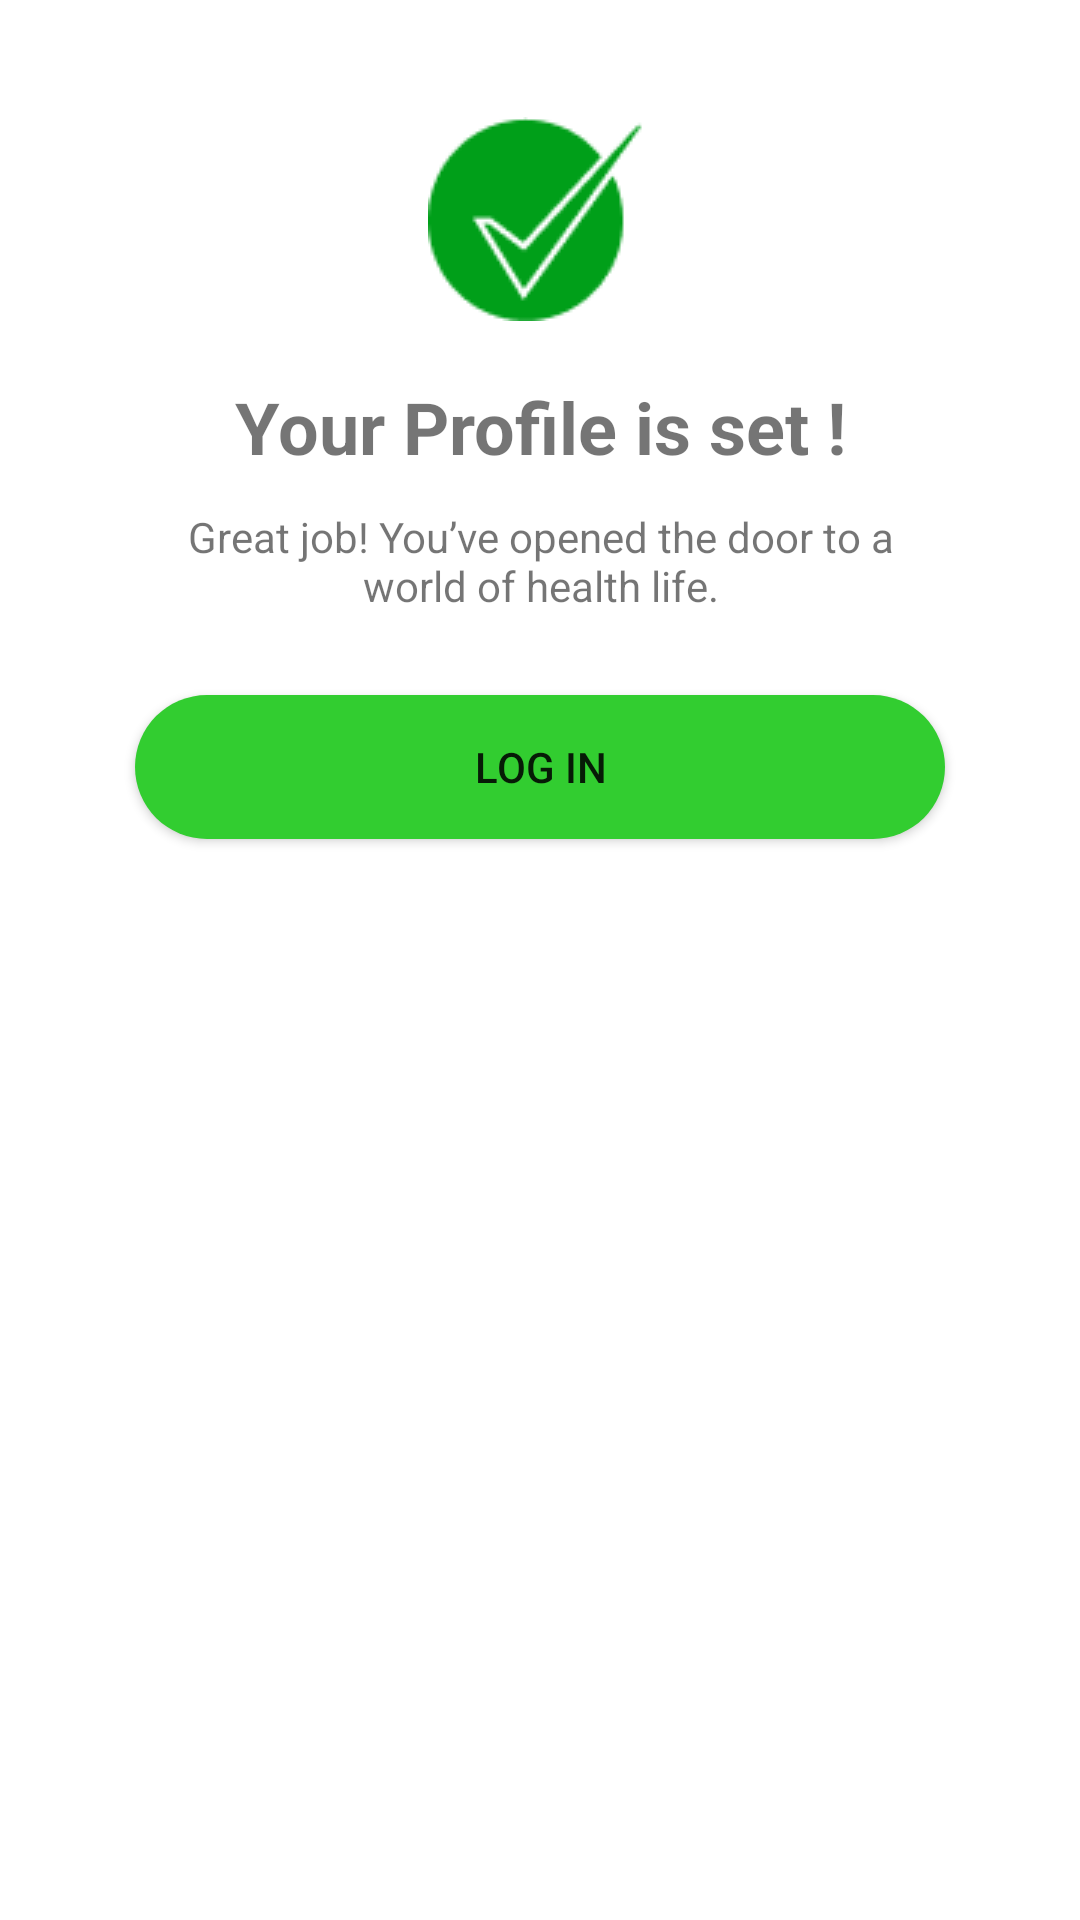

Icon bounding boxes for this 1080x1920 phone screenshot, format (x1, y1, x2, y2):
tick: (428, 117, 642, 321)
